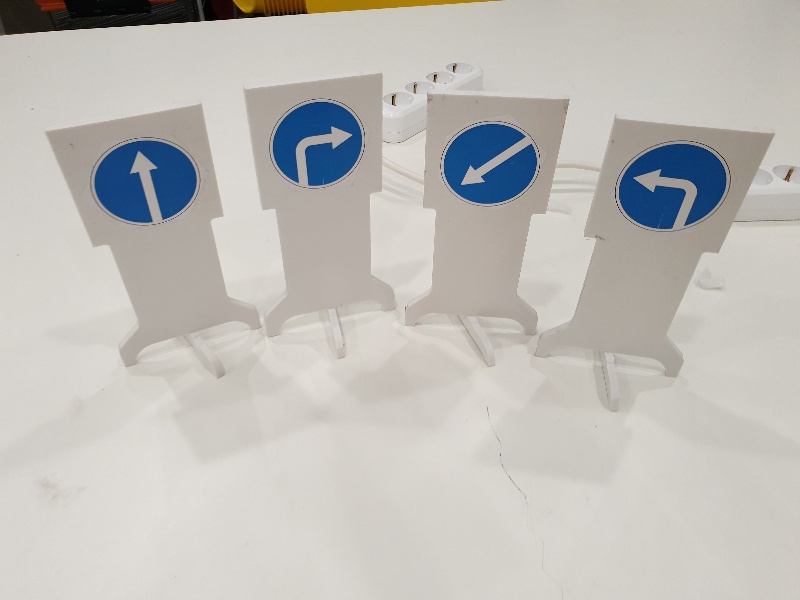Left: (611, 132, 736, 234)
Right: (255, 91, 380, 200)
forw: (84, 124, 209, 233)
prep: (435, 117, 543, 210)
